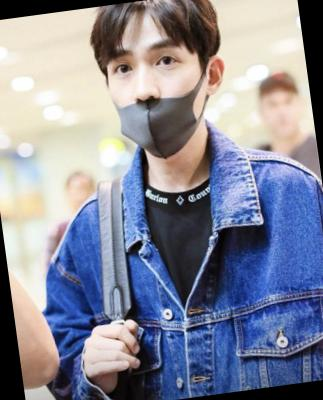mask_weared_incorrect: (101, 31, 216, 166)
without_mask: (261, 93, 302, 138)
